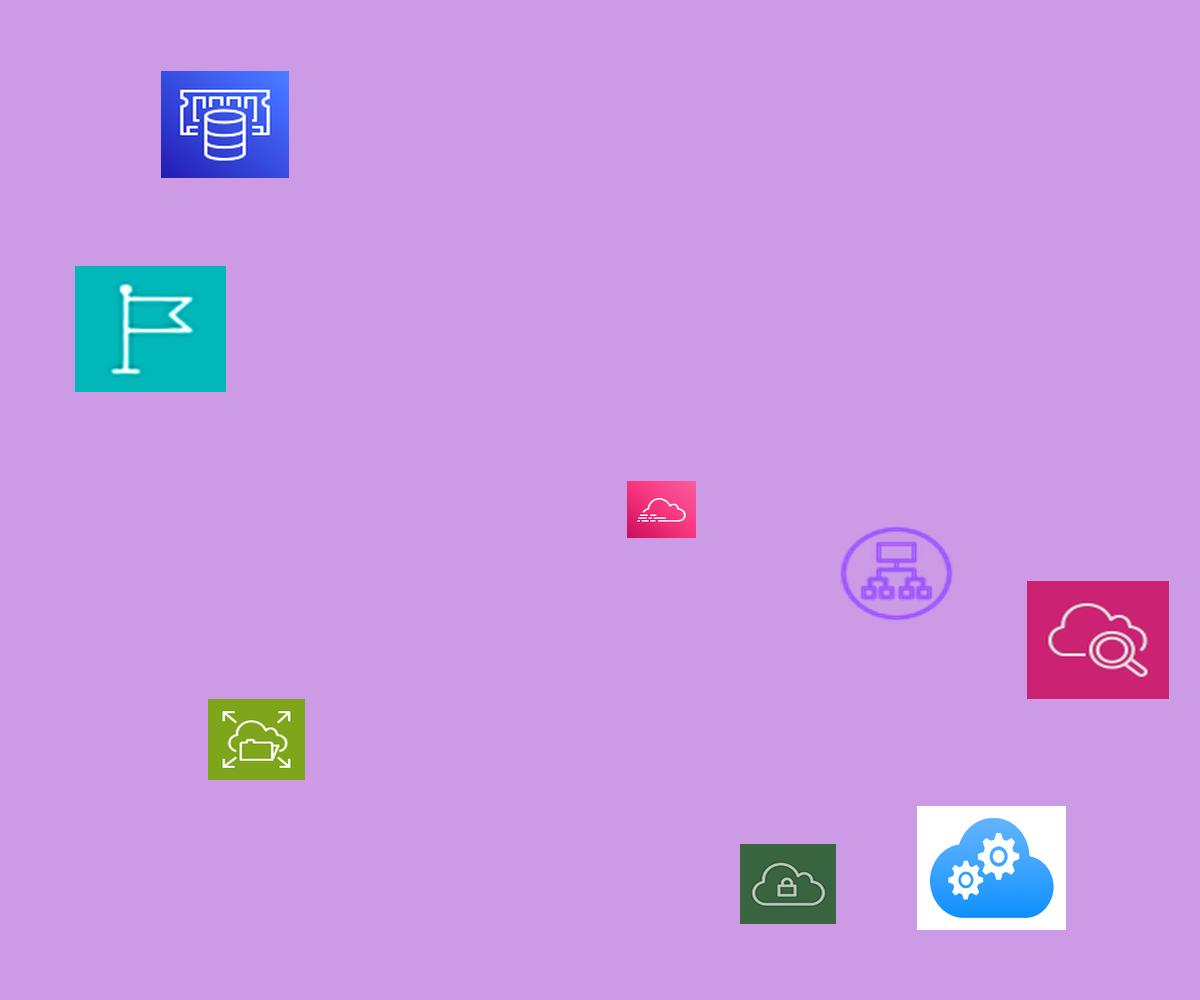AWS-CloudTrail: (627, 481, 696, 538)
AWS-CloudWatch: (1027, 581, 1169, 699)
AWS-EFS: (208, 699, 305, 780)
AWS-ElastiCache: (161, 71, 289, 178)
AWS-Private_vpc: (740, 844, 836, 924)
AWS-Region: (75, 266, 226, 392)
AWS-Res_Elastic-Load-Balancing_Application-Load-Balancer: (836, 523, 957, 624)
Azure_cloud_services: (917, 806, 1066, 930)
